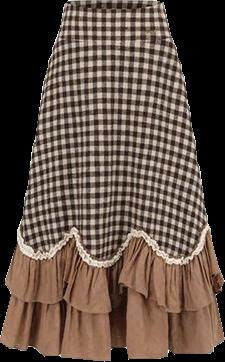Hemline: (1, 279, 219, 317), (0, 338, 224, 361)
Waistline: (15, 224, 208, 266), (64, 0, 165, 12)
